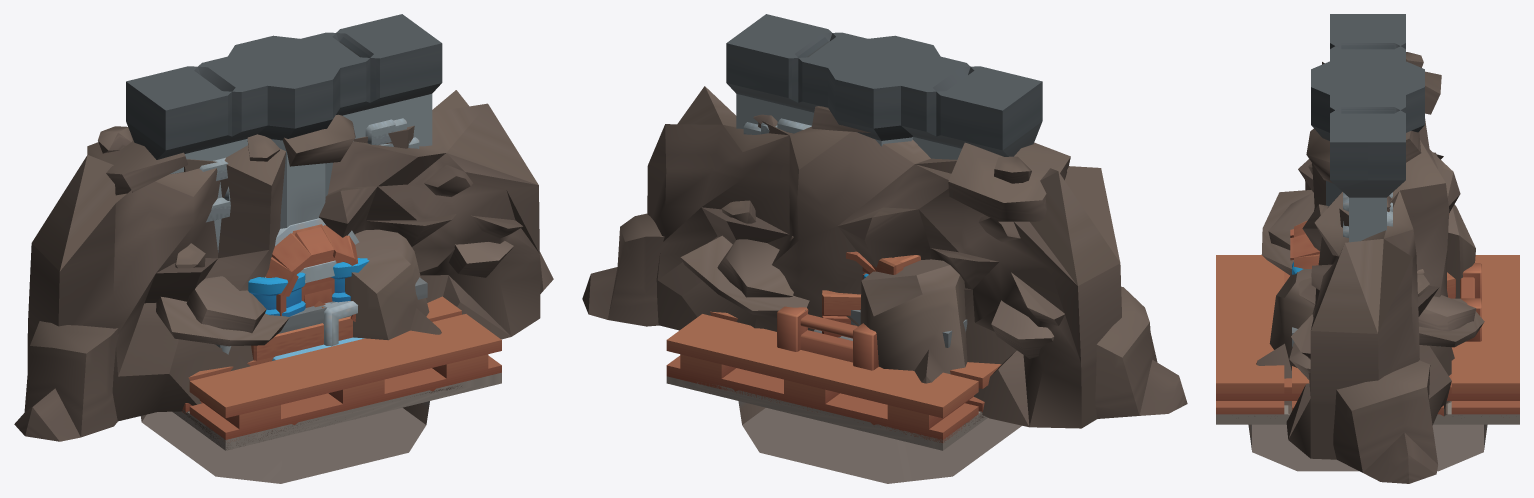
The model's file is props.glb.
3 renders of one model, left to right at view 1: azimuth 30°, elevation 25°; view 2: azimuth 150°, elevation 25°; view 3: azimuth 270°, elevation 25°, orthographic. The views are drawn at different scales.
Visible parts, largest first — view 1: rubble_large, wall, Pallet_Large, floor_tile_big_grate, pillar, keg, wall_broken, floor_tile_large, wall_half, Pallet_Small_Decorated_A, crate, Cube.13132 (+3 smaller); view 2: rubble_large, Pallet_Large, wall, floor_tile_big_grate, wall_half, pillar, bed_single_A, floor_tile_large, crates_stacked; view 3: rubble_large, Pallet_Large, wall, floor_tile_big_grate, pillar, wall_half, floor_tile_large, bed_single_A, keg.
Boxes of the visible parts, x1,y1,x2,y2 form: rubble_large: (14,90,553,441); wall: (126,14,442,248); Pallet_Large: (182,296,501,440); floor_tile_big_grate: (140,377,501,483); pillar: (222,35,345,228); keg: (265,218,359,321); wall_broken: (172,94,432,252); floor_tile_large: (173,372,501,450); wall_half: (264,14,439,122); Pallet_Small_Decorated_A: (248,258,369,316); crate: (251,316,352,360); Cube.13132: (175,94,432,223); rubble_large: (582,86,1187,428); Pallet_Large: (666,311,1001,442); wall: (726,14,1042,159); floor_tile_big_grate: (666,376,1021,483); wall_half: (726,14,903,133); pillar: (823,35,946,146); bed_single_A: (777,306,878,370); floor_tile_large: (711,385,985,449); crates_stacked: (822,255,920,337); rubble_large: (1256,52,1484,483); Pallet_Large: (1216,255,1519,417); wall: (1330,14,1405,242); floor_tile_big_grate: (1216,402,1519,471); pillar: (1311,54,1424,206); wall_half: (1330,78,1405,210); floor_tile_large: (1216,414,1519,424); bed_single_A: (1460,263,1481,341); keg: (1290,220,1319,268).
Size of the model in its own units: 8.13 by 5 by 4.
Materials: 10 (10 with a texture image).
